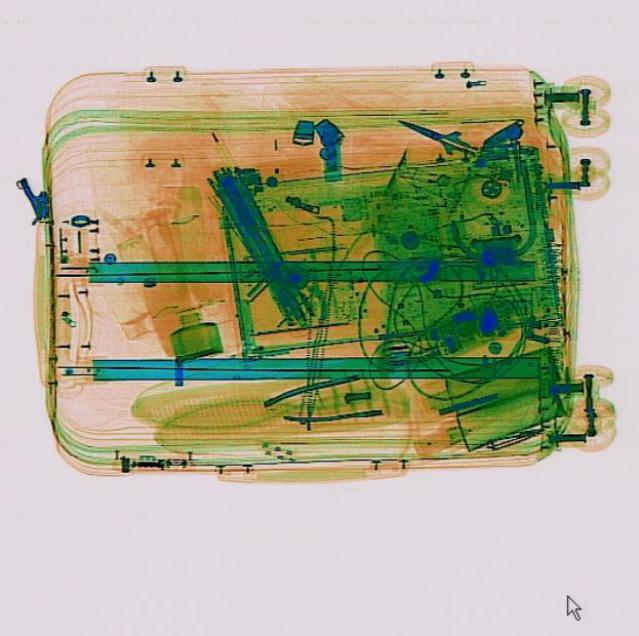Knife: (390, 106, 482, 161)
